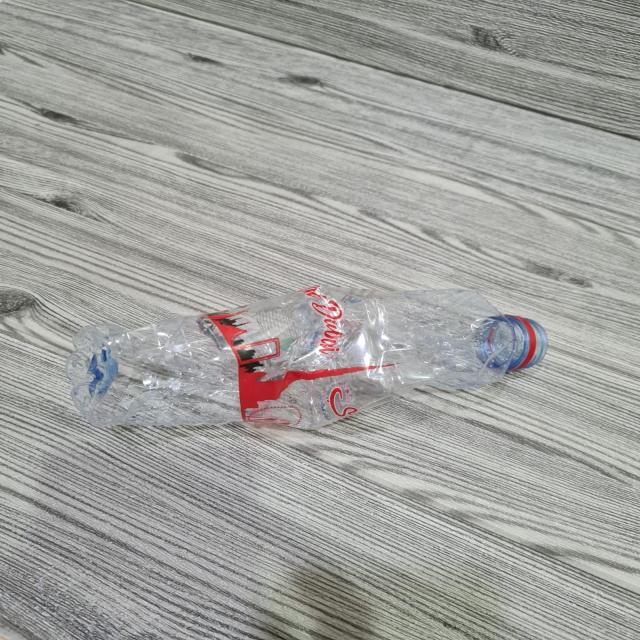bottle: (62, 286, 548, 434)
